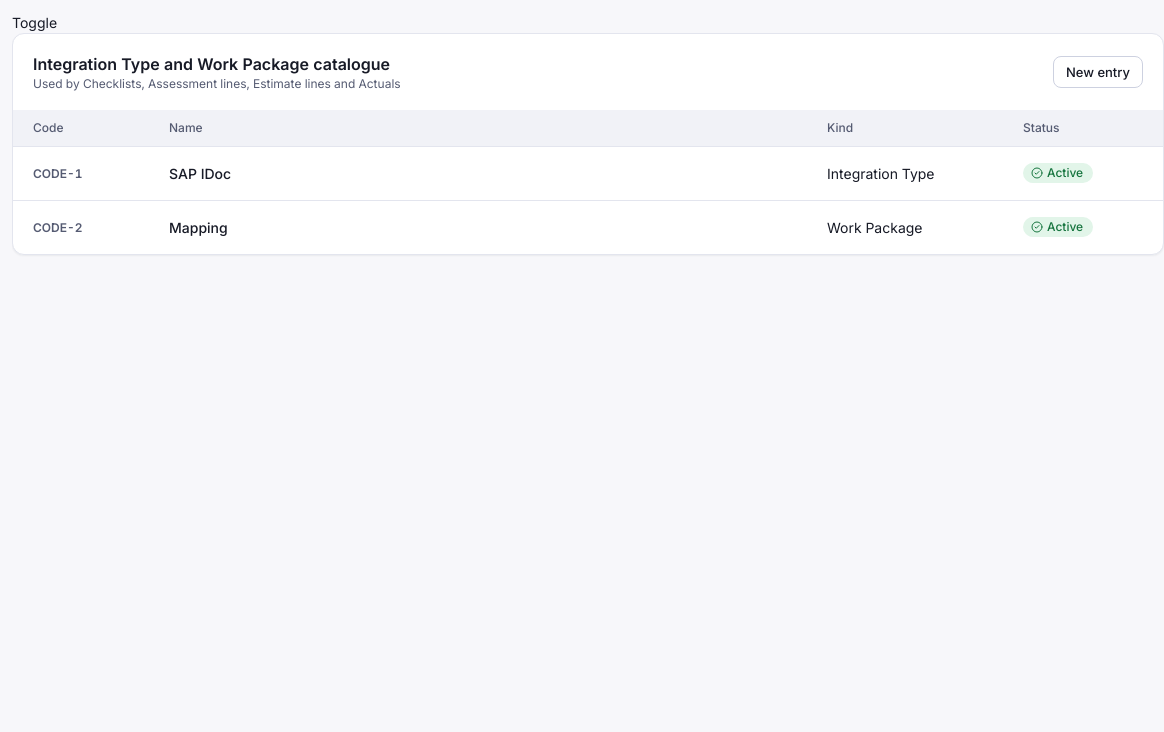
CatalogueAdmin › c opens the create form; creating adds the entry and opens it
Type keys "c"
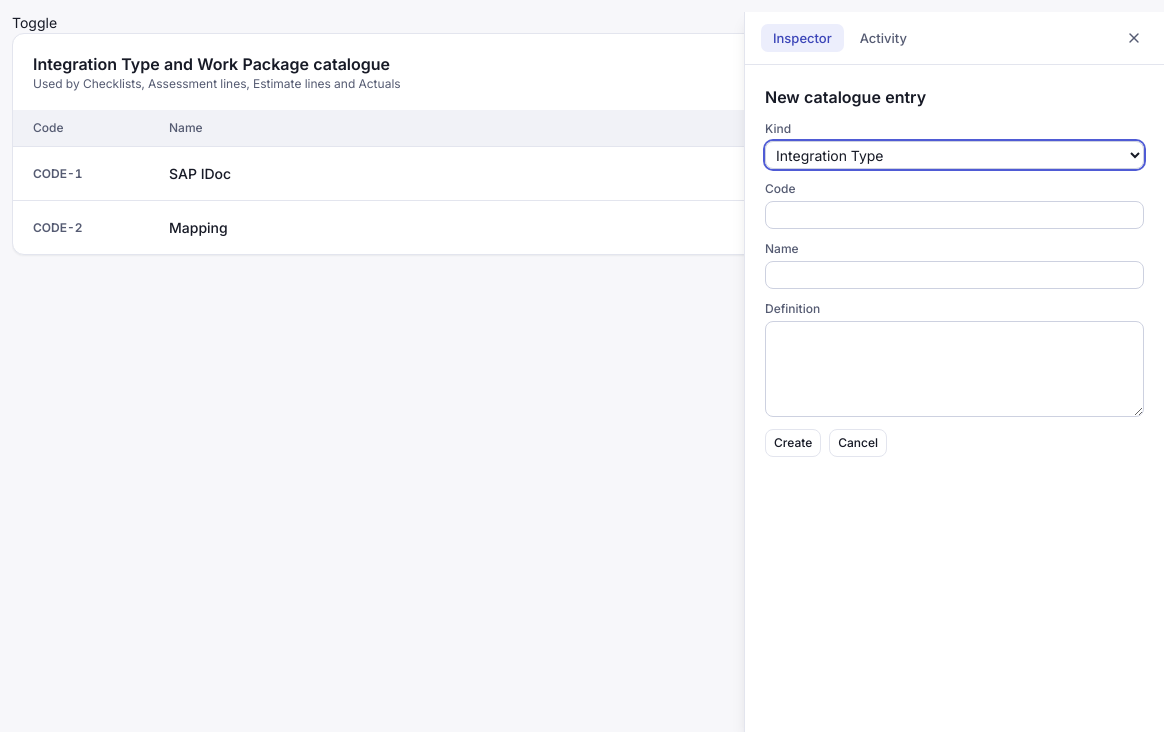
In the field labelled "Code": x=954, y=215 left=765, top=201, right=1144, bottom=229, type "FRESH"
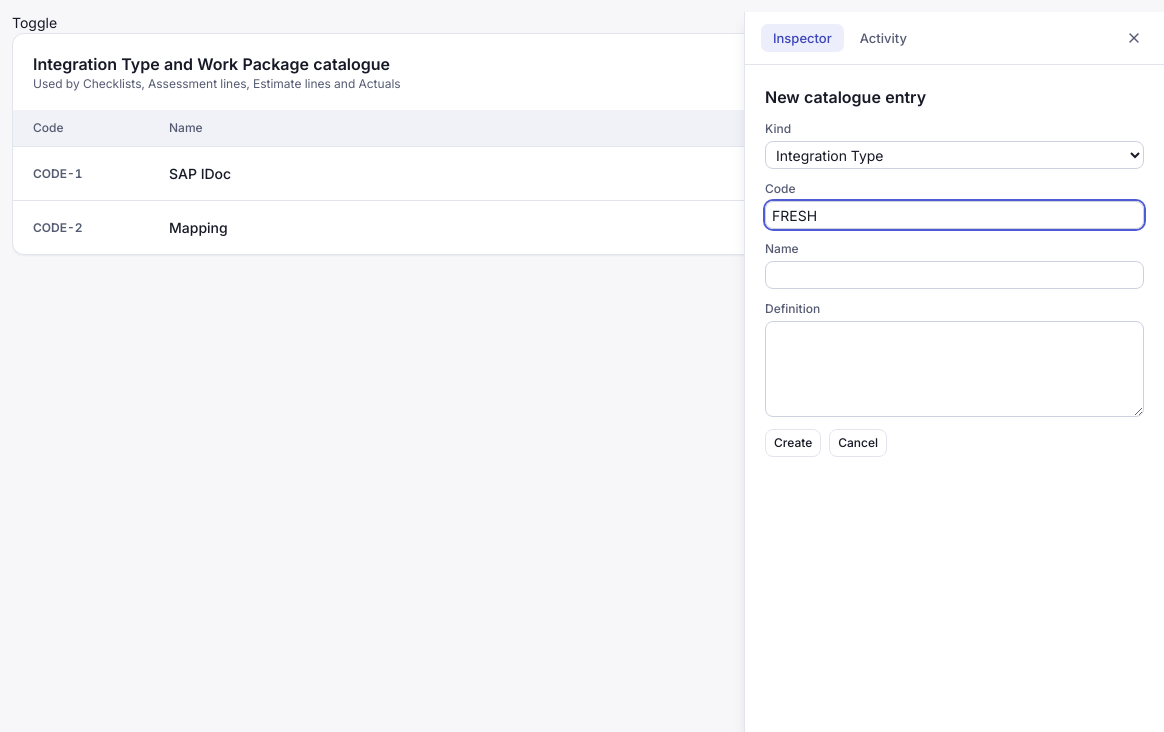
In the field labelled "Name": x=954, y=275 left=765, top=261, right=1144, bottom=289, type "Fresh"
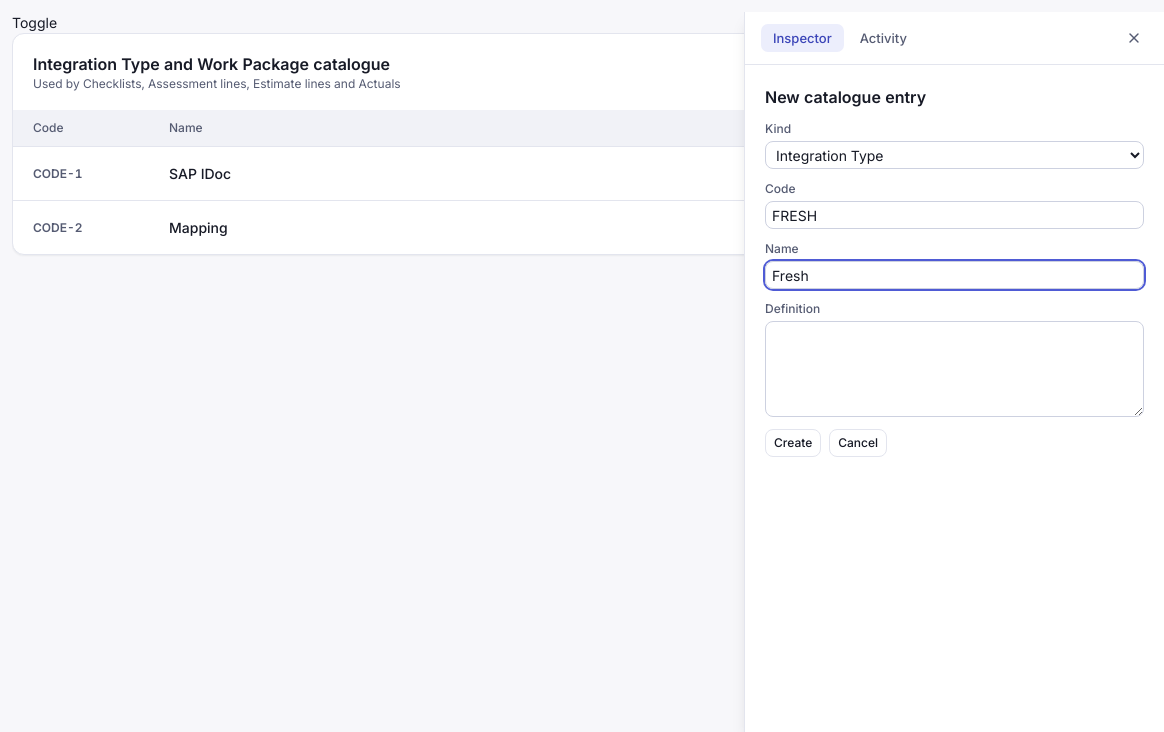
In the text box labelled "Definition": x=954, y=369 left=765, top=321, right=1144, bottom=417, type "A new one."
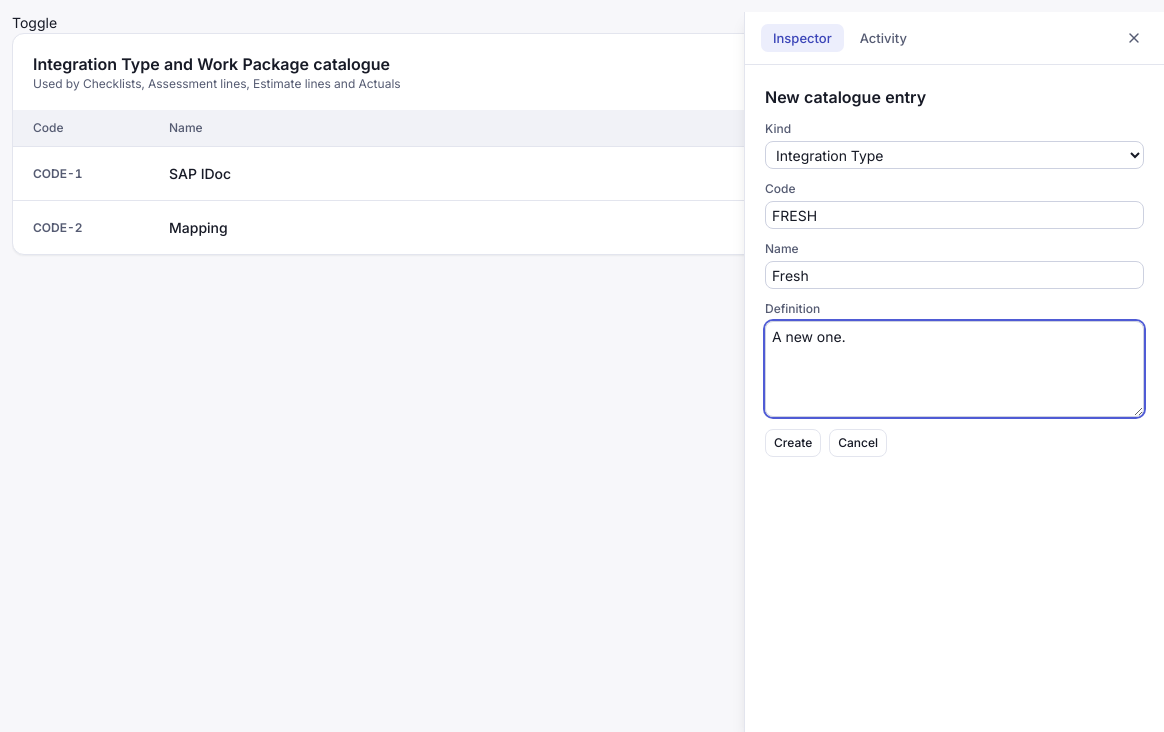
Click the button "Create": x=793, y=443 left=765, top=429, right=821, bottom=457
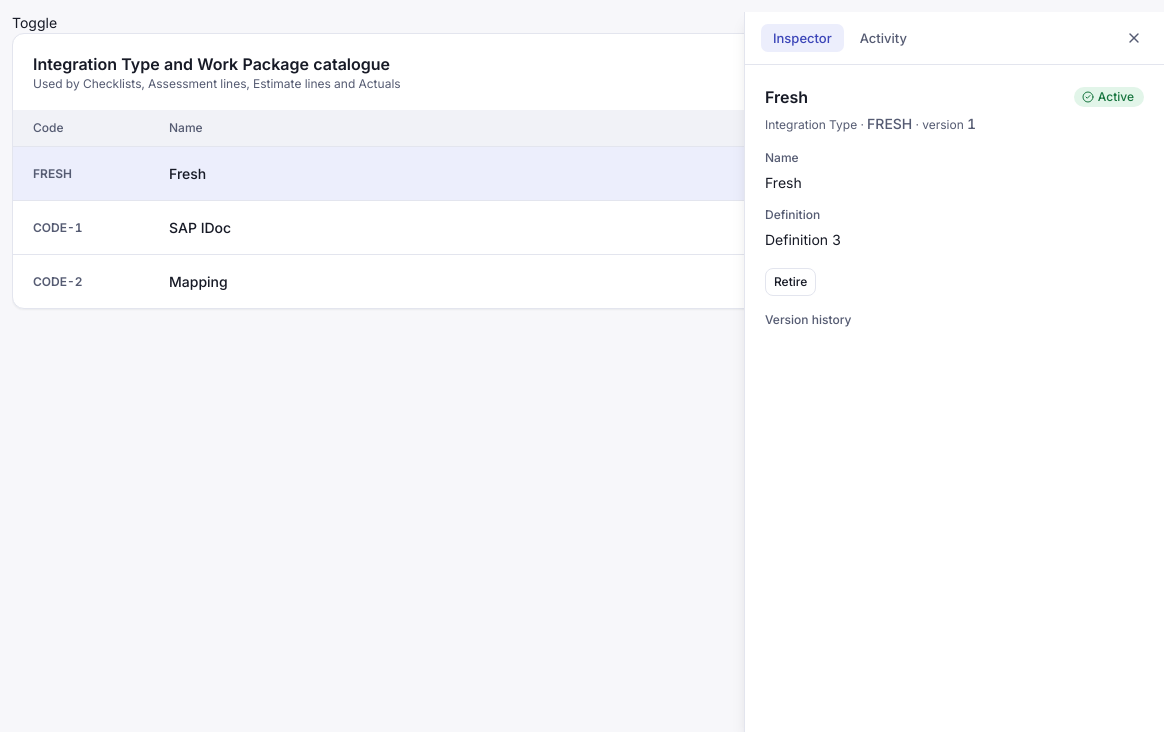
Now the button "Fresh" is shown, box left=169, top=163, right=206, bottom=184
Now the heading "Fresh" is shown, box left=765, top=85, right=808, bottom=109
